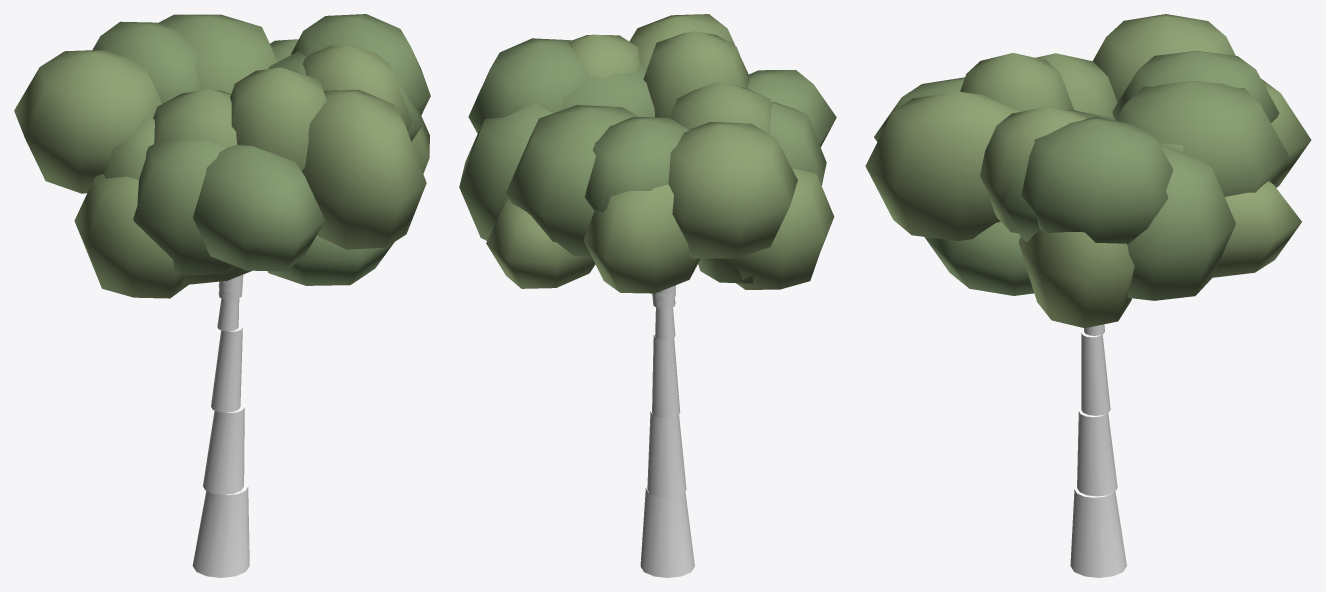
File: oak_v3_near.gltf
3 views of the same model, side by side, from view 1: azimuth 30°, elevation 25°; view 2: azimuth 150°, elevation 25°; view 3: azimuth 270°, elevation 25° (orthographic). The views are drawn at different scales.
Parts seen in each view (by area): view 1: foliage, bark; view 2: foliage, bark; view 3: foliage, bark.
Boxes of the visible parts, <box> form: foliage: <box>14,14,430,298</box>; bark: <box>192,275,249,577</box>; foliage: <box>459,14,836,293</box>; bark: <box>640,285,694,577</box>; foliage: <box>865,14,1311,328</box>; bark: <box>1070,324,1126,577</box>.
Bounding box in the file's own units: 3.82 × 5.28 × 4.1.
